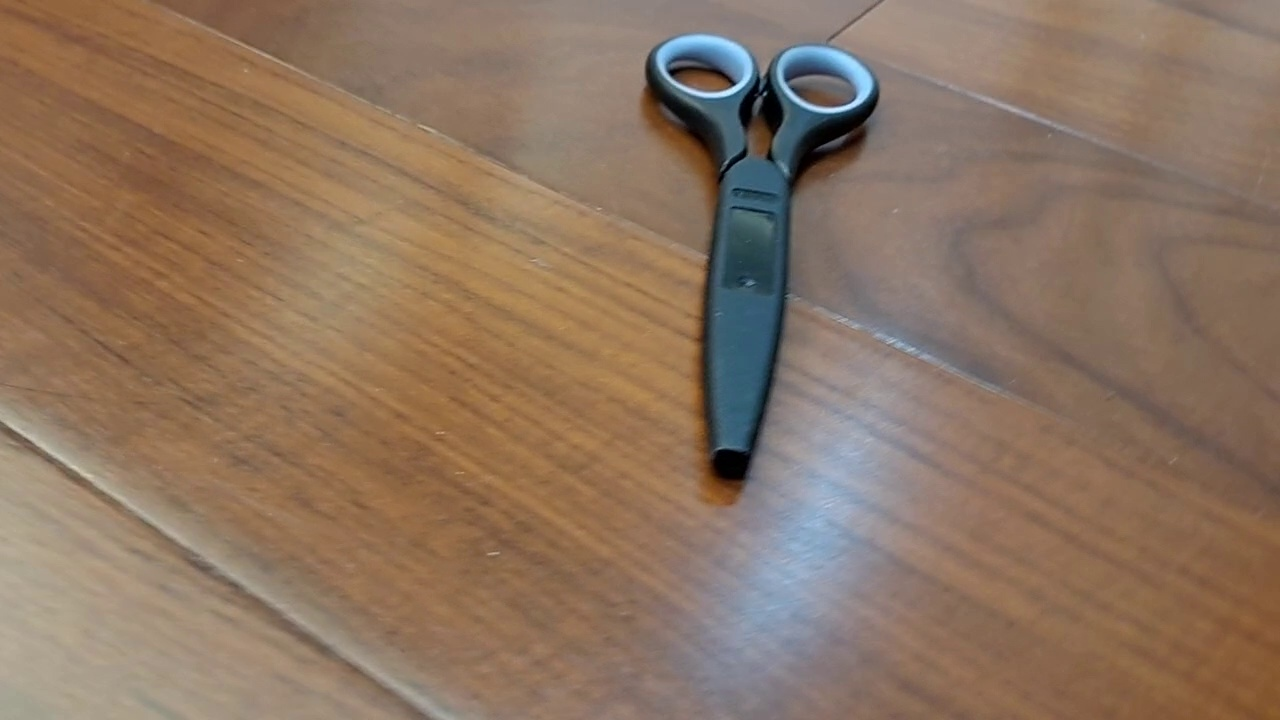scissors: (644, 32, 880, 481)
